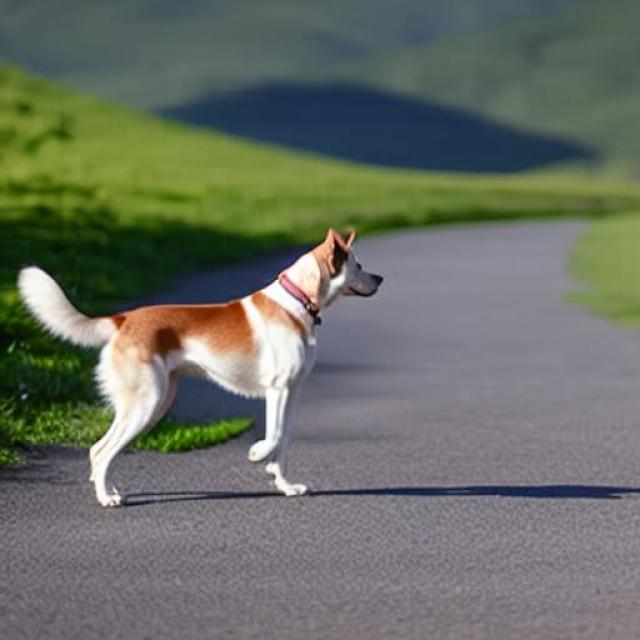Dog: (18, 227, 383, 507)
